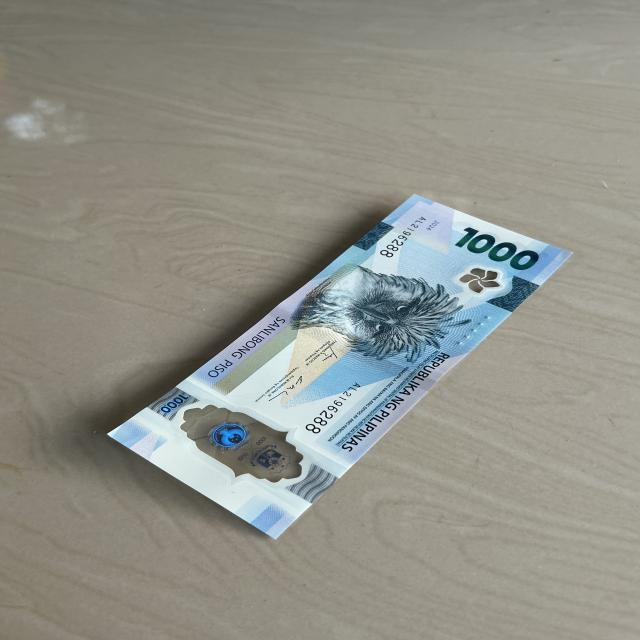clear_window: (172, 404, 303, 483)
eagle: (298, 267, 461, 360)
sampaguita: (458, 264, 502, 292)
